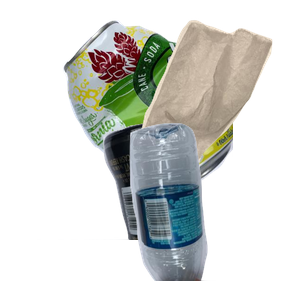glass: (37, 120, 231, 300)
metal: (60, 18, 300, 198)
plastic: (127, 120, 300, 300)
trash: (132, 17, 300, 177)
